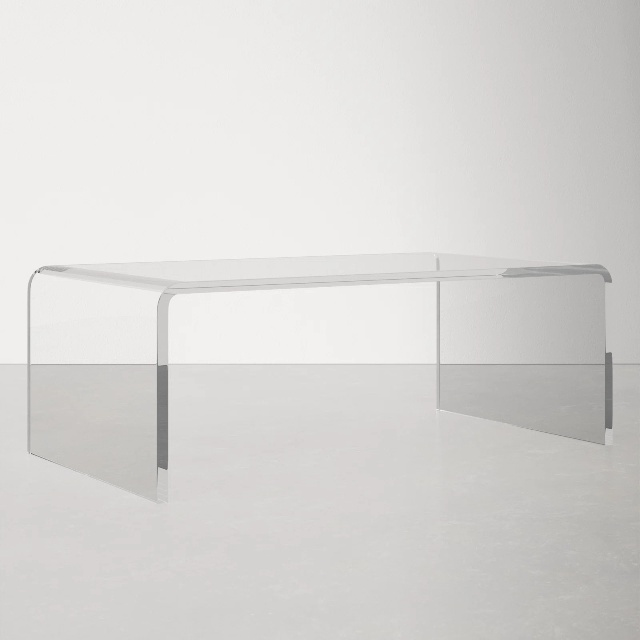obstacle: (28, 253, 612, 501)
